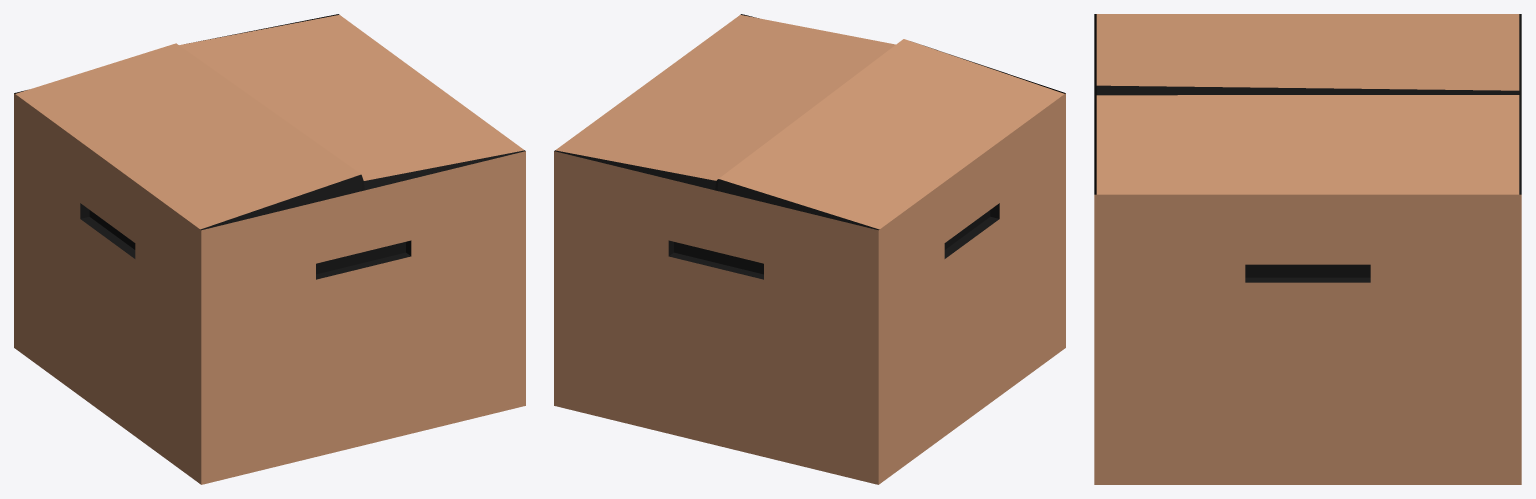
3 views of the same model, side by side, from view 1: azimuth 30°, elevation 25°; view 2: azimuth 150°, elevation 25°; view 3: azimuth 270°, elevation 25° (orthographic). The views are drawn at different scales.
Visible parts, largest first — view 1: Cube.002; view 2: Cube.002; view 3: Cube.002.
Boxes of the visible parts, x1,y1,x2,y2 form: Cube.002: [14, 14, 525, 484]; Cube.002: [554, 14, 1065, 484]; Cube.002: [1094, 14, 1521, 484].
Bounding box in the file's own units: 40 × 31.86 × 40.
